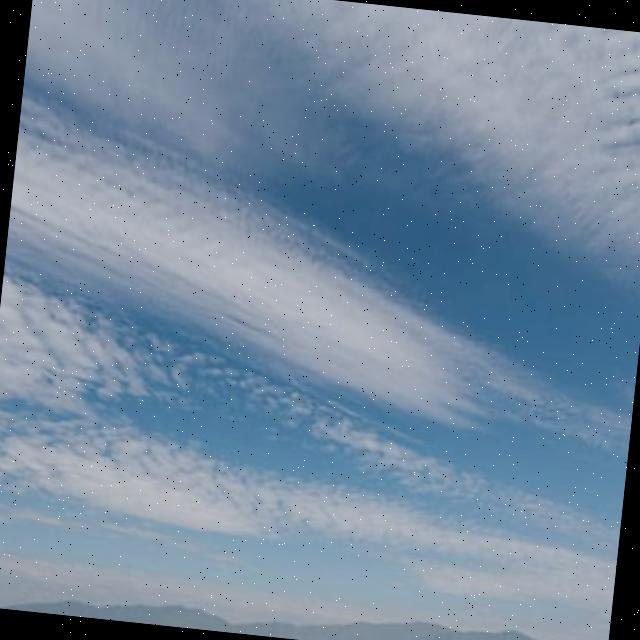Ac: (1, 62, 626, 465)
